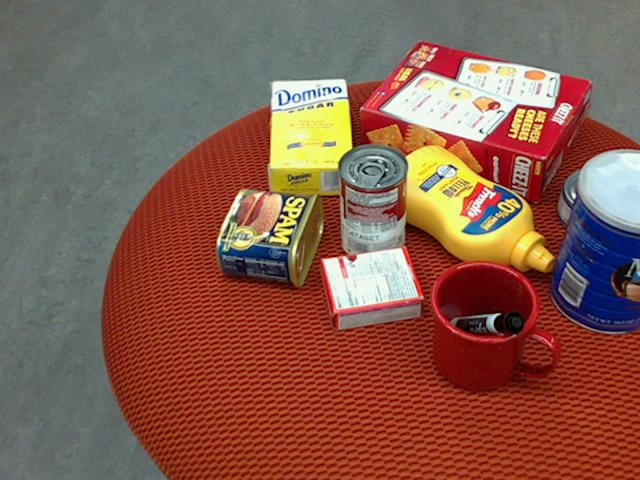cracker_box: (359, 39, 589, 200)
gelatin_box: (317, 248, 422, 331)
large_marker: (449, 309, 524, 336)
master_chef_can: (548, 148, 639, 334)
mug: (428, 259, 556, 391)
mustard_bottle: (378, 145, 553, 272)
potted_meat_can: (215, 188, 323, 287)
sugar_box: (269, 77, 355, 198)
tomato_soup_can: (336, 142, 407, 262)
tuna_fish_can: (555, 165, 639, 241)
